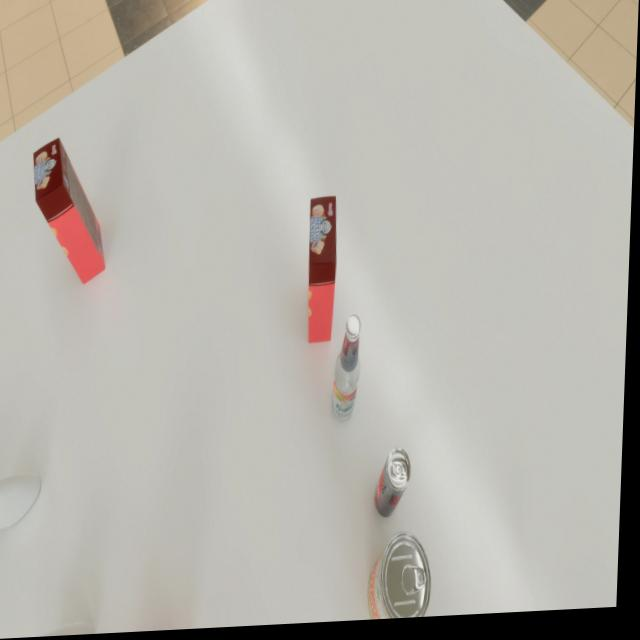Bottle: (334, 318, 366, 427)
HelloPanda: (31, 136, 111, 288), (308, 199, 340, 347)
Potato_sticks: (371, 535, 437, 624)
Rita_zero_sugar: (378, 451, 415, 522)
Salt: (0, 472, 44, 530), (24, 621, 99, 638)
